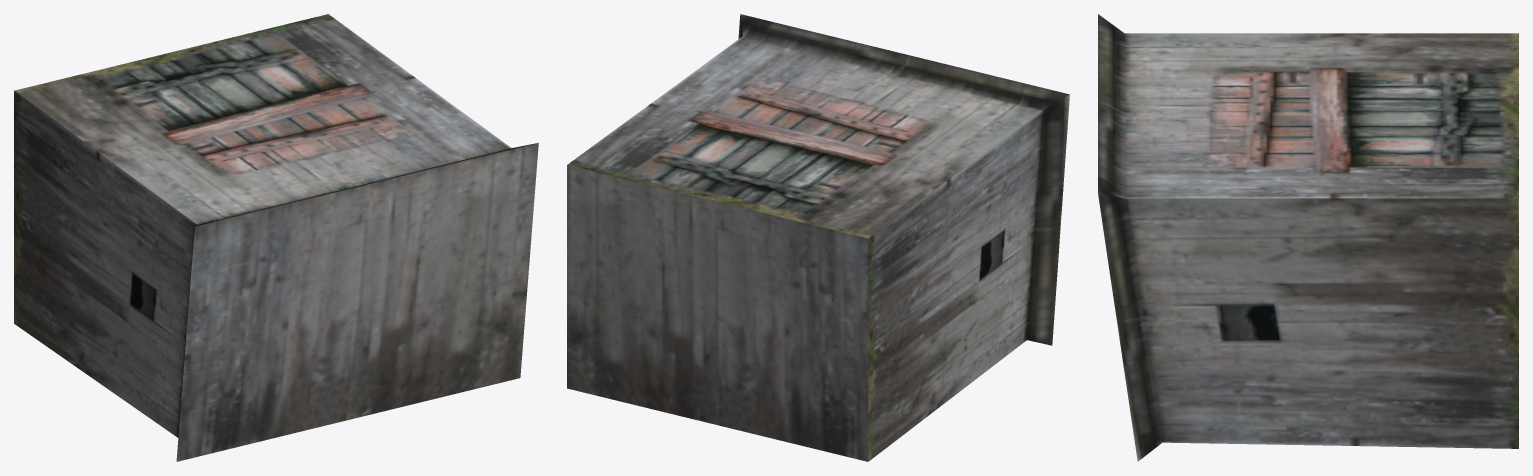
Rendered from m12shack_wtf.obj.
The picture shows the model from 3 angles, left to right: view 1: azimuth 30°, elevation 25°; view 2: azimuth 150°, elevation 25°; view 3: azimuth 270°, elevation 25°; orthographic projection. The views are drawn at different scales.
Visible parts, largest first — view 1: group2; view 2: group2; view 3: group2.
Part boxes in pixels (left/top/right/bottom): group2: left=14, top=14, right=538, bottom=461; group2: left=567, top=14, right=1069, bottom=461; group2: left=1098, top=14, right=1518, bottom=461.
Size of the model in its own units: 660 by 456 by 650.
